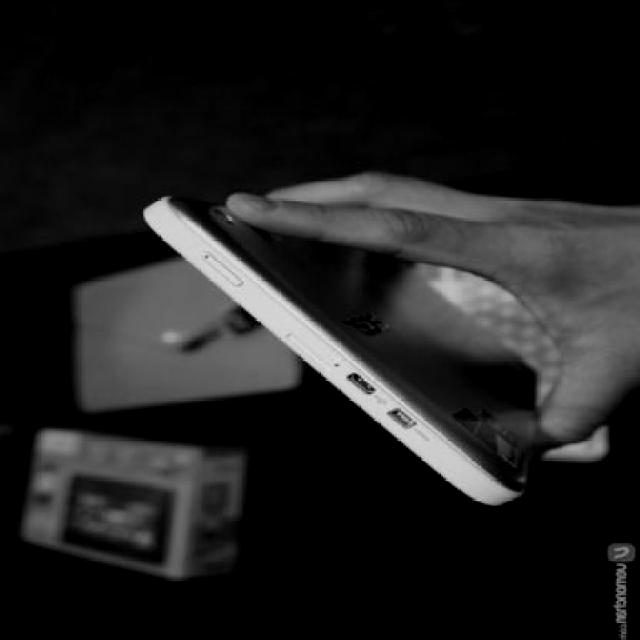fake: (152, 183, 571, 509)
